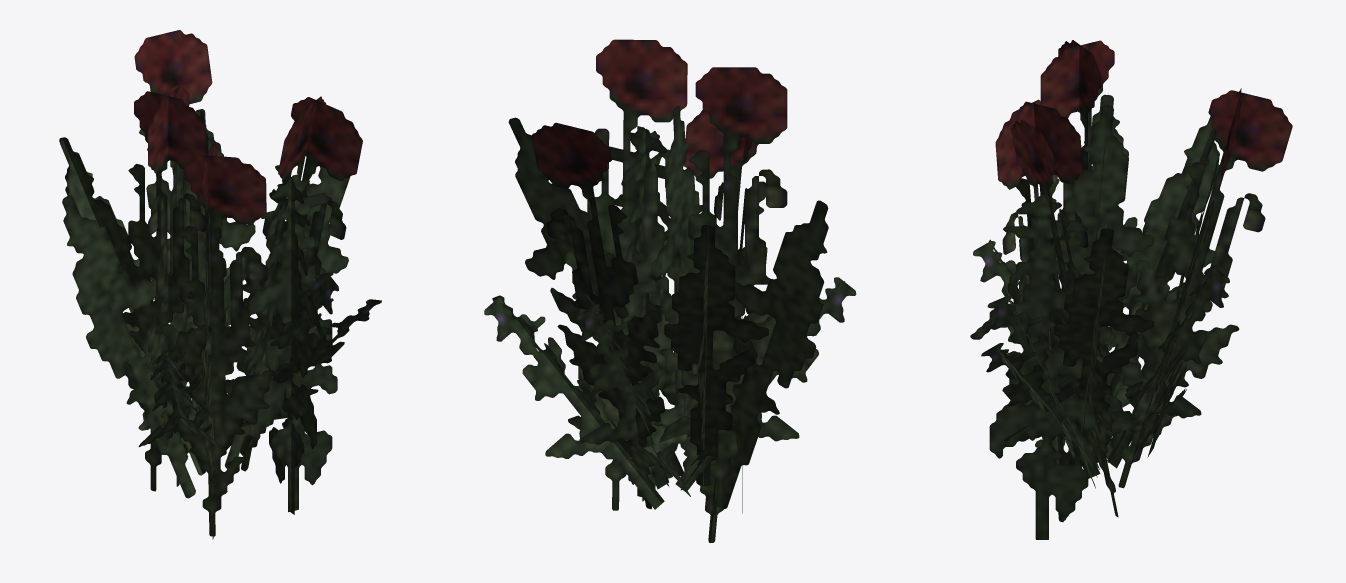
The model's file is SM_EC_Plant_Bush_03.fbx.
The picture shows the model from 3 angles, left to right: view 1: azimuth 30°, elevation 25°; view 2: azimuth 150°, elevation 25°; view 3: azimuth 270°, elevation 25°; orthographic projection. The views are drawn at different scales.
Parts seen in each view (by area): view 1: SM_EC_Plant_Bush_03; view 2: SM_EC_Plant_Bush_03; view 3: SM_EC_Plant_Bush_03.
Part boxes in pixels (x1,y1,x2,y2): SM_EC_Plant_Bush_03: (59,30,381,539); SM_EC_Plant_Bush_03: (484,39,856,542); SM_EC_Plant_Bush_03: (970,40,1292,539).
Size of the model in its own units: 1.04 by 0.9569 by 1.22.
